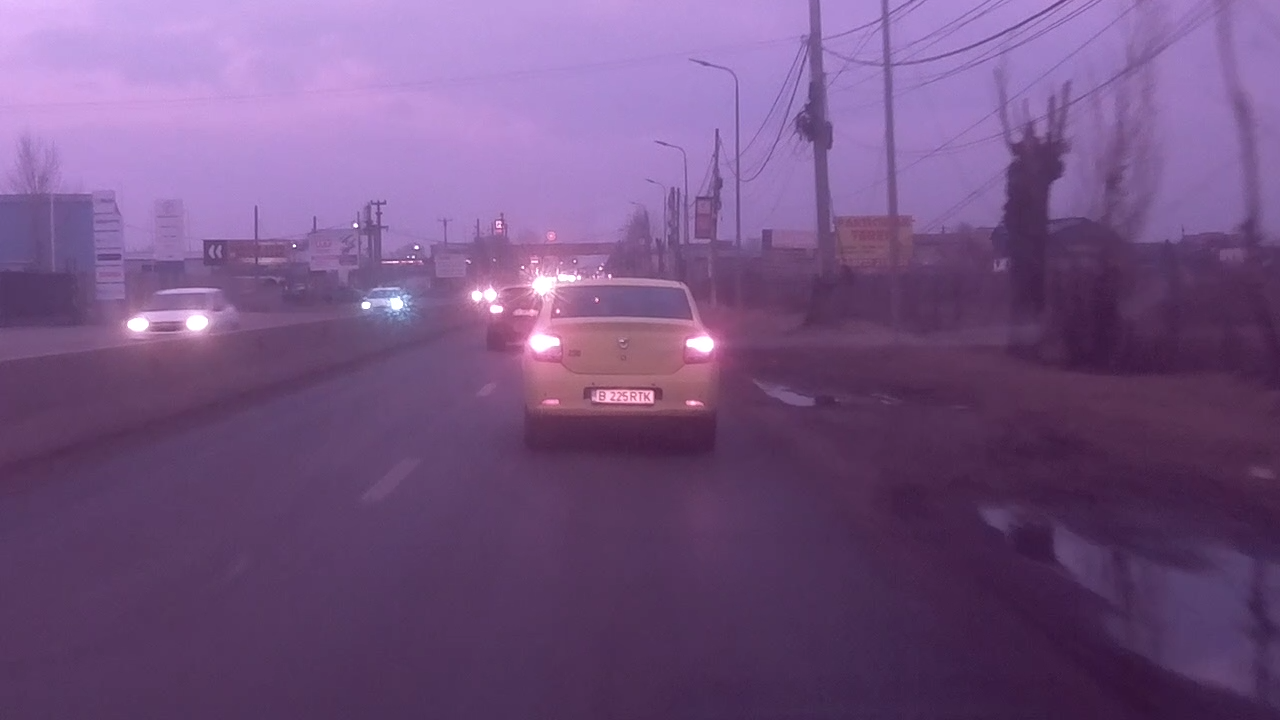license-plate: (586, 386, 657, 406)
